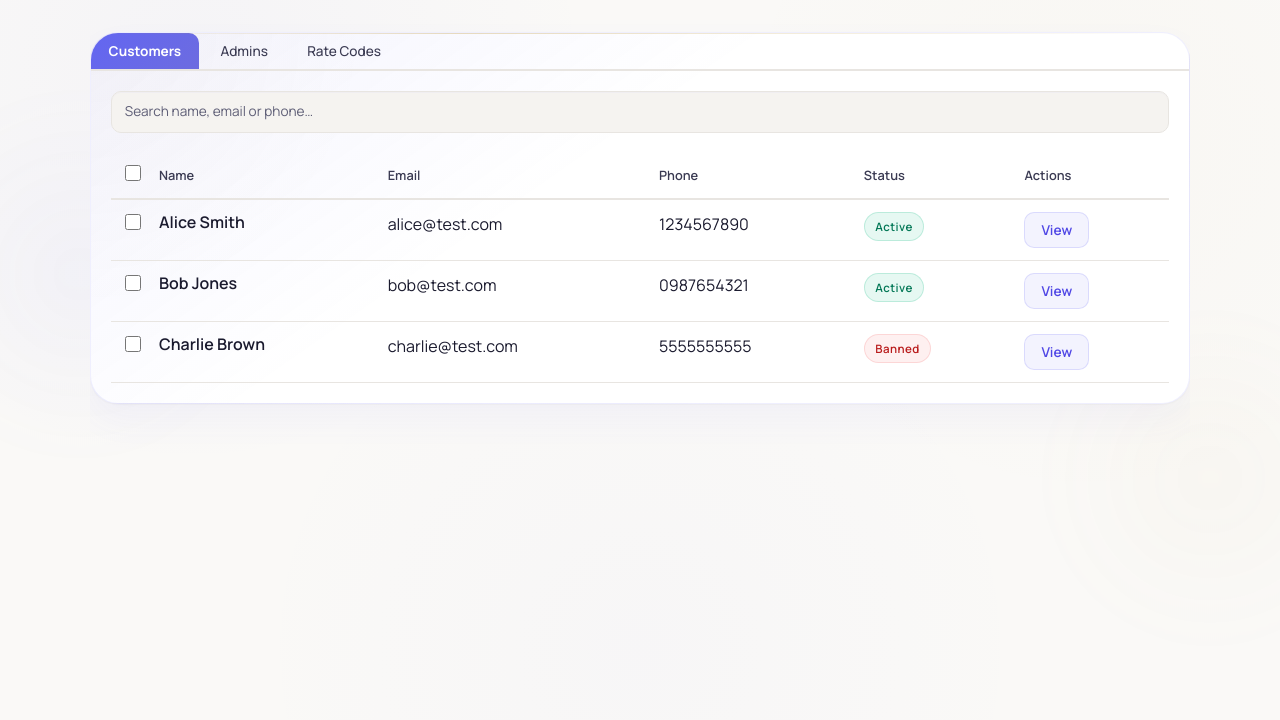
Test case: AdminUsersConfig Page › detail modal Pricing tab shows current rate code
Expected: the text "Alice Smith" is shown, [159, 211, 245, 233]
Click the button "View" in the row of "Smith": x=1057, y=230 [1024, 212, 1089, 248]
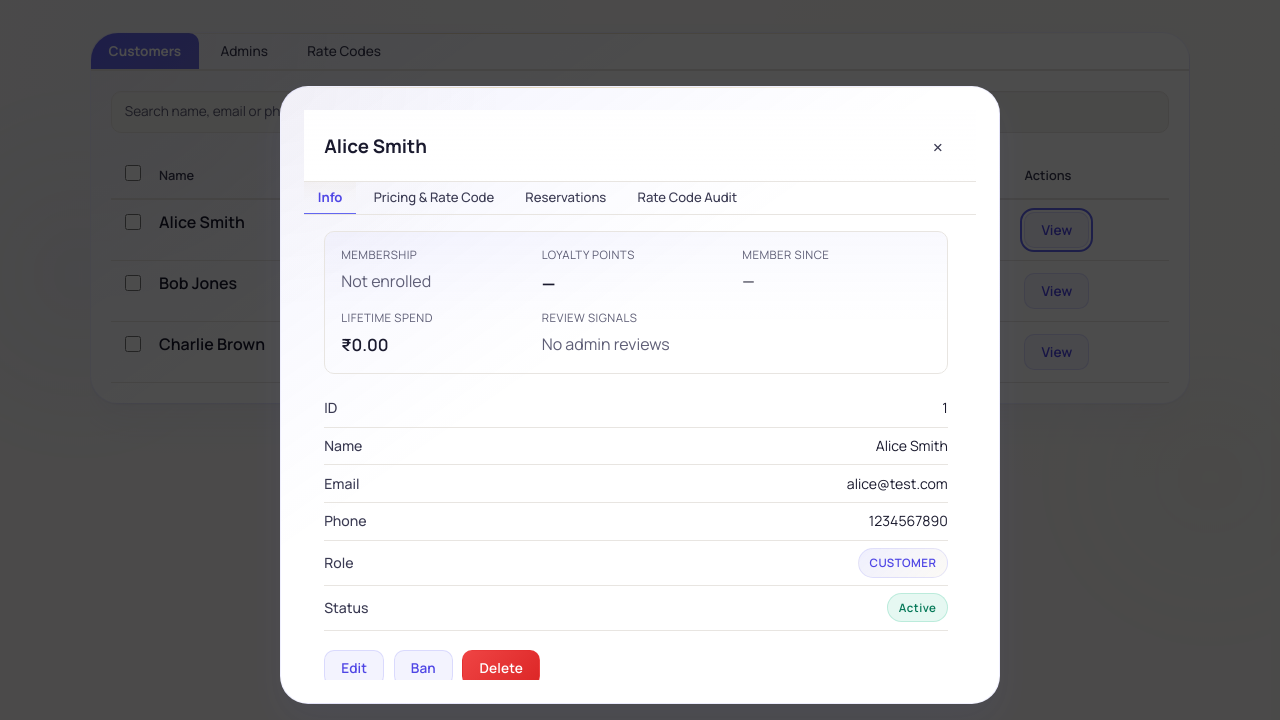
Now the element with class "auc-detail-modal" is shown, box [280, 86, 1000, 704]
Click the button "Pricing & Rate Code": x=434, y=198 [360, 181, 508, 215]
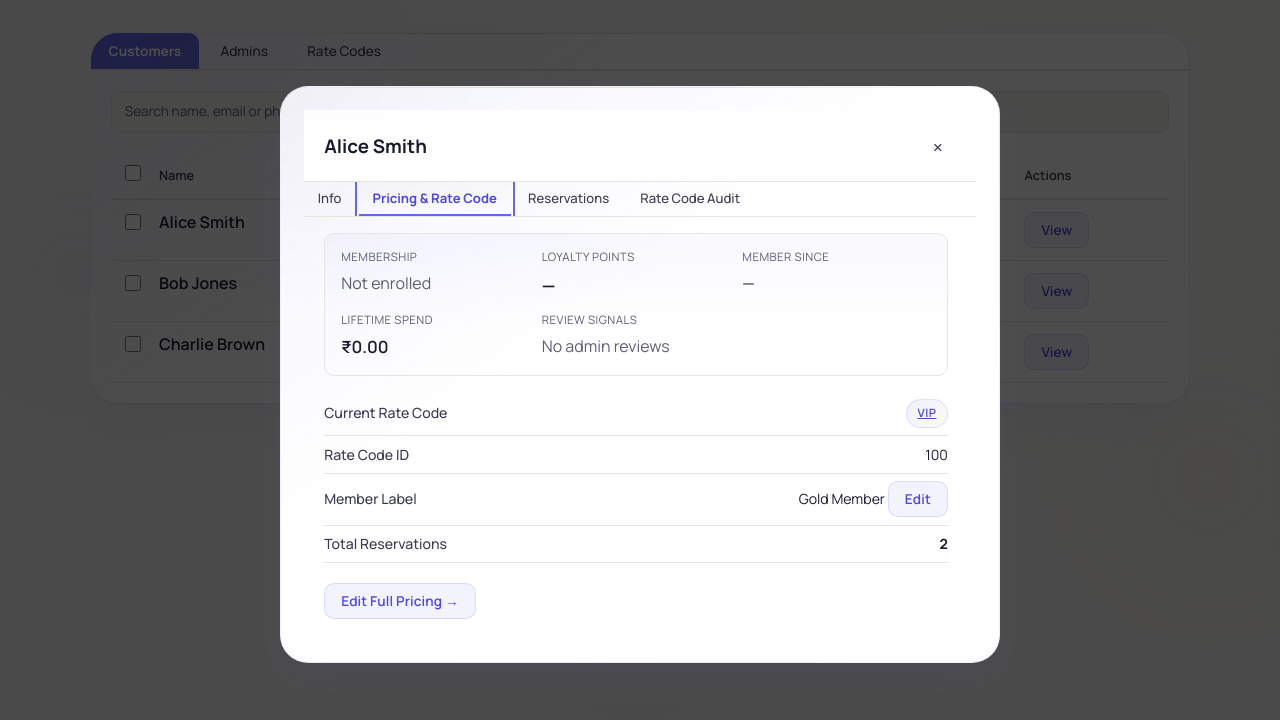
Now the text "2" is shown, box [939, 534, 948, 553]
Now the text "VIP" is shown, box [906, 399, 948, 428]
